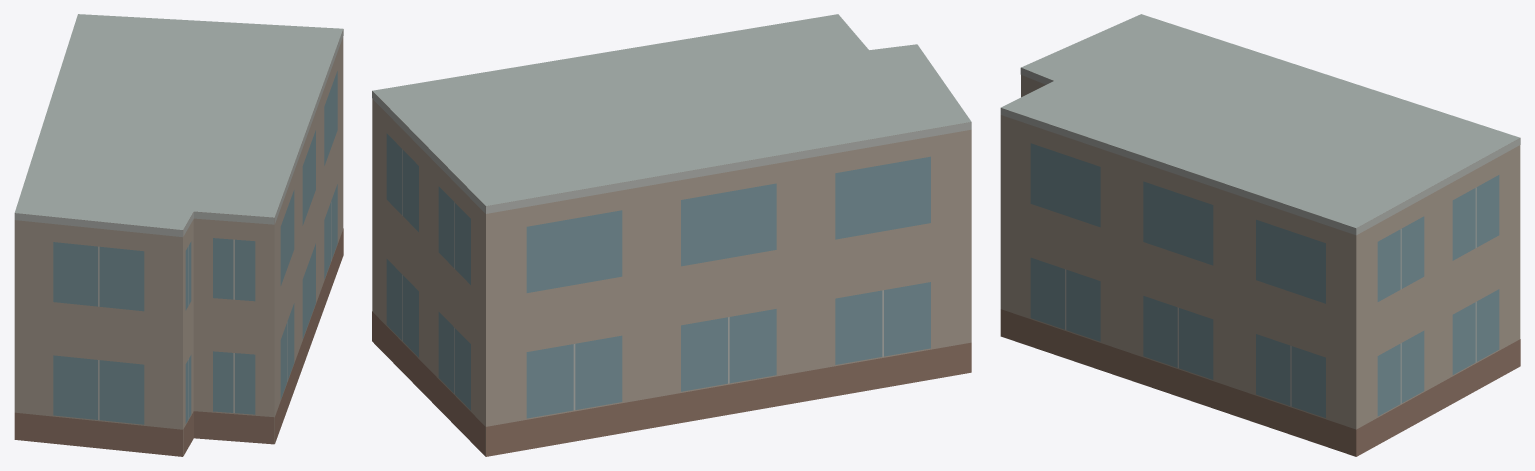
File: survey-upis-32758341.glb
3 renders of one model, left to right at view 1: azimuth 30°, elevation 25°; view 2: azimuth 150°, elevation 25°; view 3: azimuth 270°, elevation 25°, orthographic. The views are drawn at different scales.
Parts seen in each view (by area): view 1: survey-upis-32758341.tmp; view 2: survey-upis-32758341.tmp; view 3: survey-upis-32758341.tmp.
Part boxes in pixels (x1=…): survey-upis-32758341.tmp: x1=14, y1=14, x2=343, y2=456; survey-upis-32758341.tmp: x1=372, y1=14, x2=971, y2=456; survey-upis-32758341.tmp: x1=1000, y1=14, x2=1520, y2=456.
Size of the model in its own units: 15.68 by 7.8 by 16.08.
